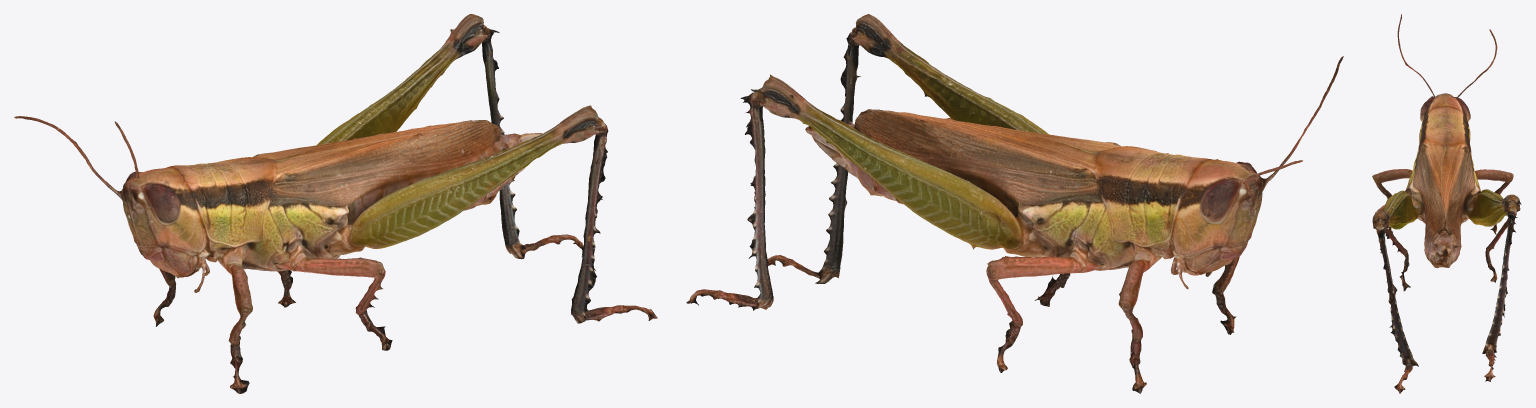
Rendered from Short_winged_Rice_Grasshopper_clean.glb.
3 views of the same model, side by side, from view 1: azimuth 30°, elevation 25°; view 2: azimuth 150°, elevation 25°; view 3: azimuth 270°, elevation 25° (orthographic). The views are drawn at different scales.
Parts seen in each view (by area): view 1: QS1483-W03-1-1_1; view 2: QS1483-W03-1-1_1; view 3: QS1483-W03-1-1_1.
Part boxes in pixels (x1=…): QS1483-W03-1-1_1: x1=14, y1=14, x2=657, y2=393; QS1483-W03-1-1_1: x1=686, y1=14, x2=1343, y2=393; QS1483-W03-1-1_1: x1=1372, y1=14, x2=1521, y2=393.
Bounding box in the file's own units: 0.0502 × 0.0275 × 0.0177.
1 material, 1 textured.
